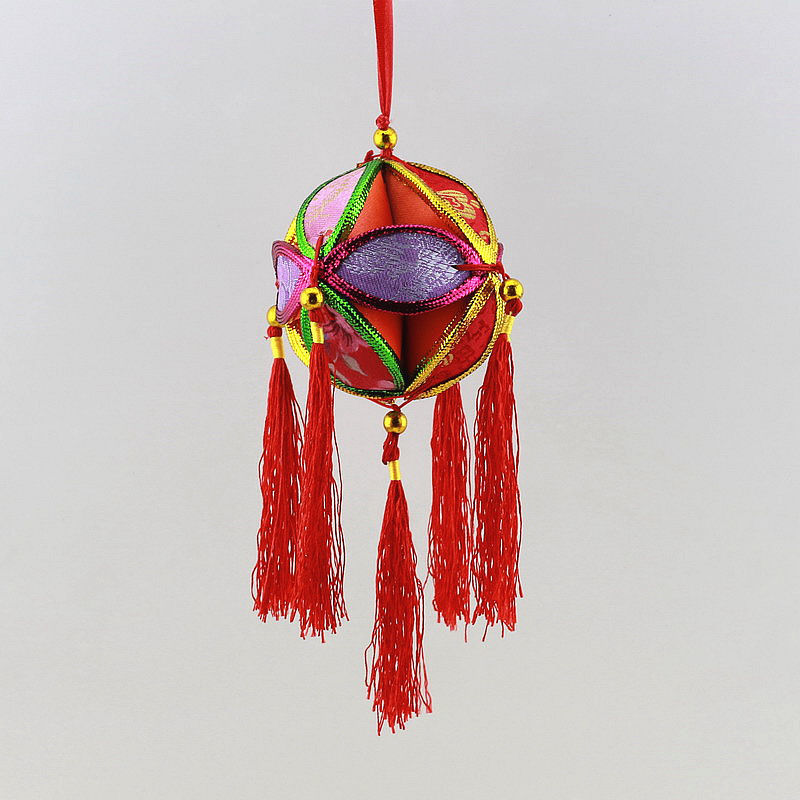xiuqiu: (277, 157, 511, 408)
